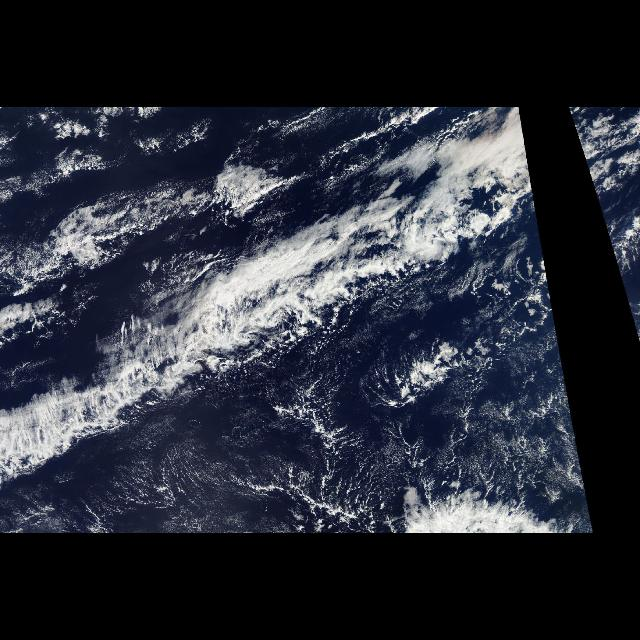Fish: (170, 227, 476, 379)
